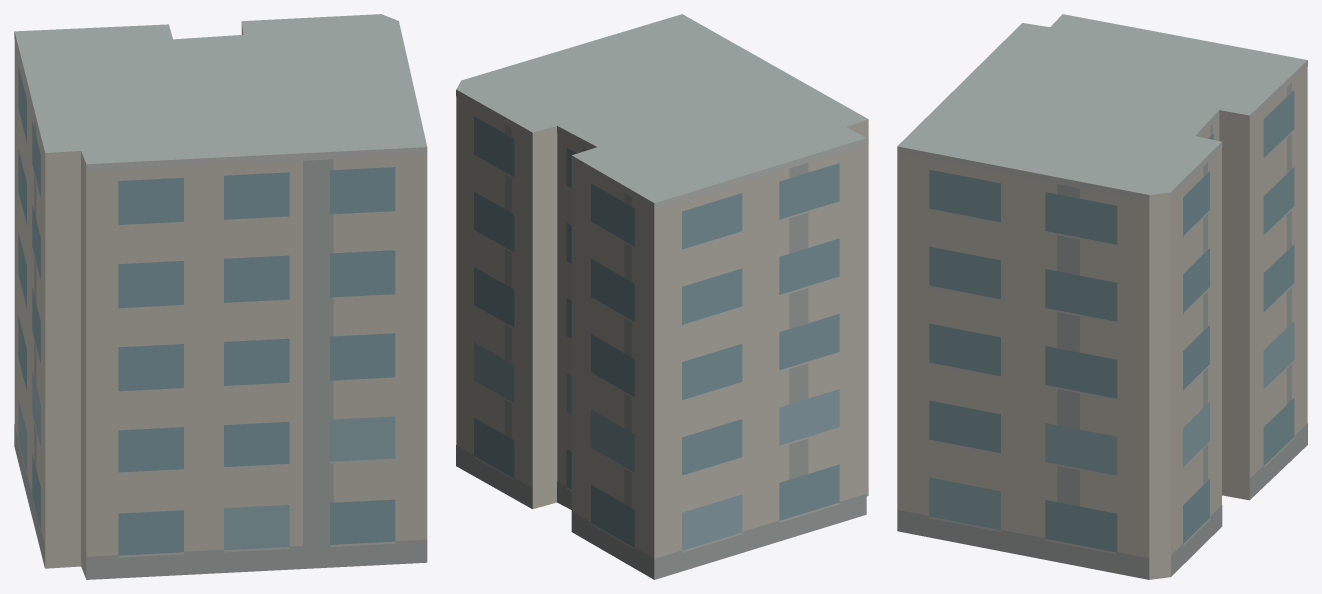
The model's file is survey-upis-32527553.glb.
The picture shows the model from 3 angles, left to right: view 1: azimuth 30°, elevation 25°; view 2: azimuth 150°, elevation 25°; view 3: azimuth 270°, elevation 25°; orthographic projection. The views are drawn at different scales.
Visible parts, largest first — view 1: survey-upis-32527553.tmp; view 2: survey-upis-32527553.tmp; view 3: survey-upis-32527553.tmp.
Part boxes in pixels (x1=…): survey-upis-32527553.tmp: x1=14, y1=14, x2=427, y2=579; survey-upis-32527553.tmp: x1=456, y1=14, x2=868, y2=579; survey-upis-32527553.tmp: x1=897, y1=14, x2=1307, y2=579.
Bounding box in the file's own units: 13.63 × 13.5 × 13.06.
